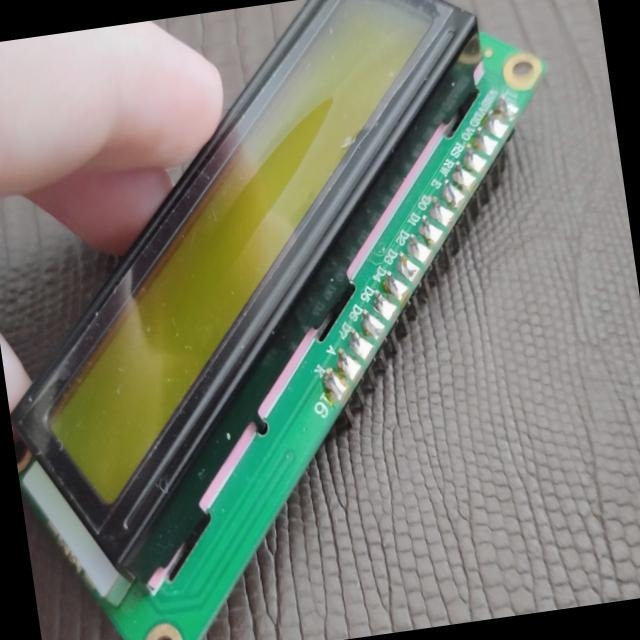lcd: (0, 0, 625, 640)
